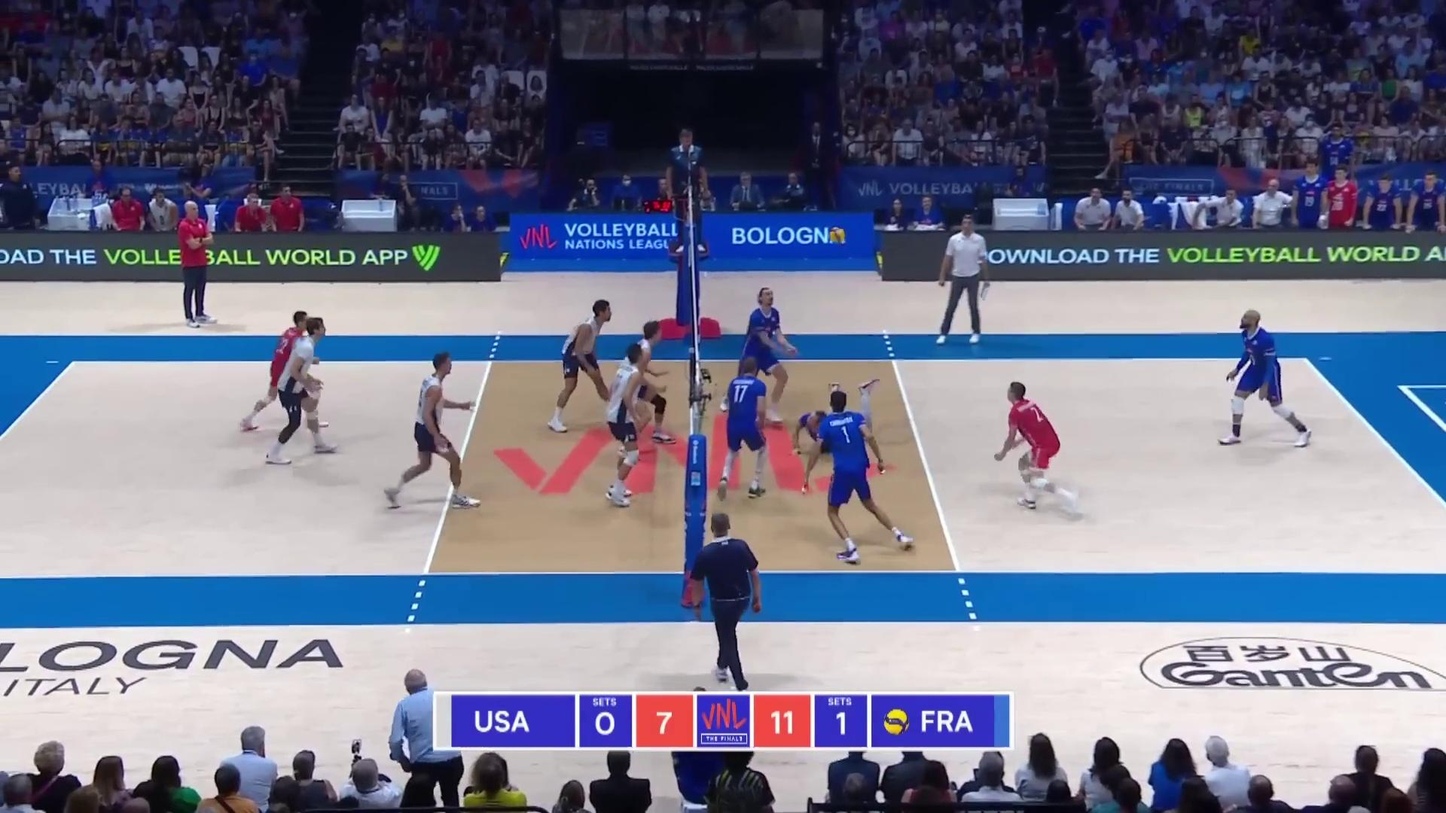player: (801, 391, 912, 564), (388, 354, 483, 508), (1217, 310, 1310, 447), (989, 381, 1084, 513), (260, 321, 340, 465), (248, 310, 326, 436), (717, 288, 790, 420), (602, 346, 658, 506), (550, 300, 617, 433), (790, 379, 892, 458), (717, 359, 769, 500), (624, 320, 674, 448)
refree: (684, 512, 757, 682), (667, 129, 711, 258)
